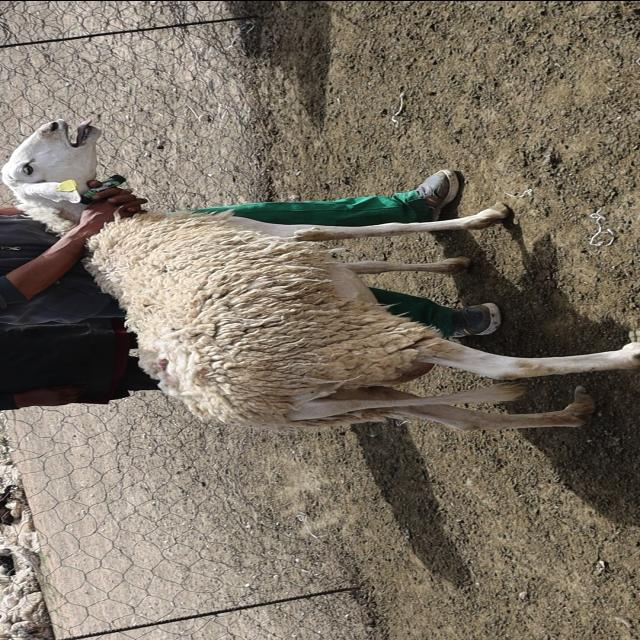Score_4: (88, 202, 639, 431)
